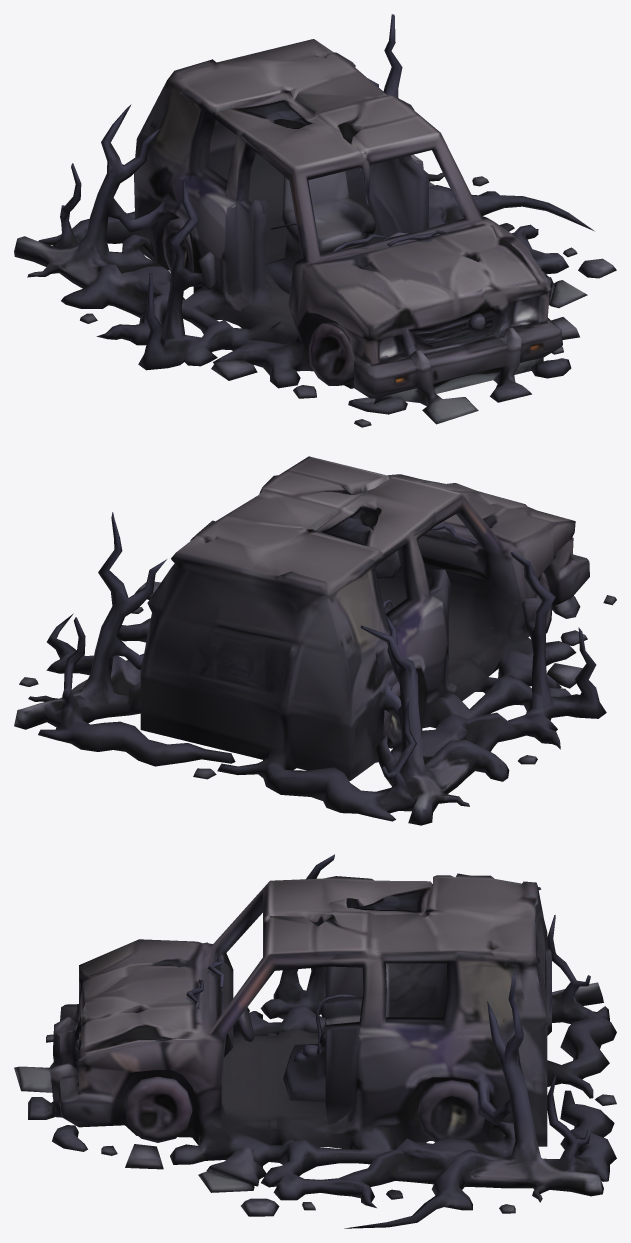
File: SM_Vehicle_DarkRuinedCar_01.fbx
3 views of the same model, one above another, from view 1: azimuth 30°, elevation 25°; view 2: azimuth 150°, elevation 25°; view 3: azimuth 270°, elevation 25° (orthographic). The views are drawn at different scales.
Parts seen in each view (by area): view 1: SM_Vehicle_DarkRuinedCar_01; view 2: SM_Vehicle_DarkRuinedCar_01; view 3: SM_Vehicle_DarkRuinedCar_01.
Boxes of the visible parts, box(x1,y1,x2,y2) form: SM_Vehicle_DarkRuinedCar_01: box(14, 14, 616, 427); SM_Vehicle_DarkRuinedCar_01: box(14, 456, 616, 825); SM_Vehicle_DarkRuinedCar_01: box(14, 854, 616, 1228).
Bounding box in the file's own units: 0.959 × 0.3574 × 0.998.
1 material, 1 textured.
